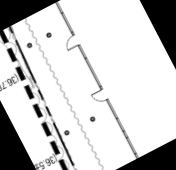door: (60, 32, 83, 53), (89, 87, 111, 107)
